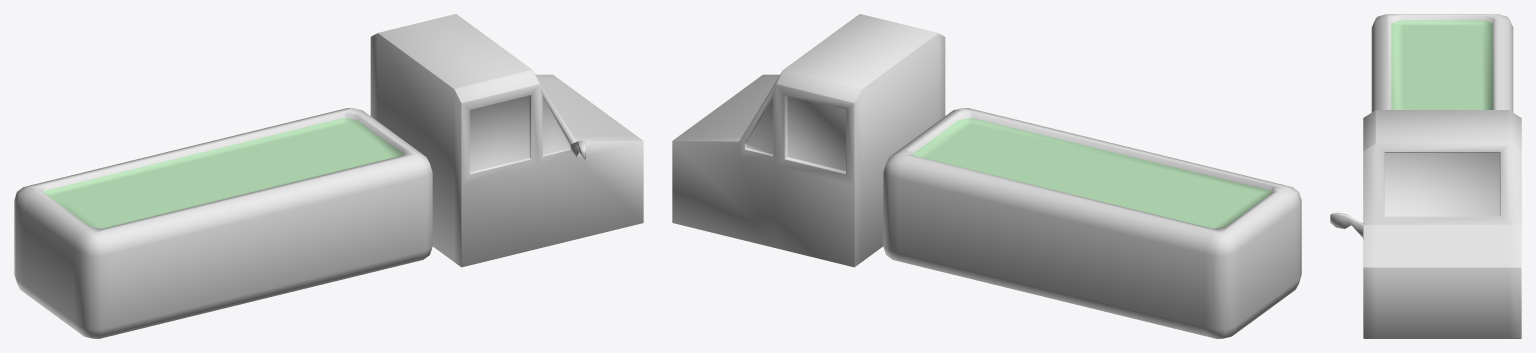
File: boxx.fbx
3 views of the same model, side by side, from view 1: azimuth 30°, elevation 25°; view 2: azimuth 150°, elevation 25°; view 3: azimuth 270°, elevation 25° (orthographic). The views are drawn at different scales.
Parts seen in each view (by area): view 1: Cube, Cube.001; view 2: Cube, Cube.001; view 3: Cube.001, Cube.
Part boxes in pixels (<box>): Cube: <box>14,108,432,338</box>; Cube.001: <box>370,14,643,267</box>; Cube: <box>883,108,1301,338</box>; Cube.001: <box>672,14,945,267</box>; Cube.001: <box>1330,110,1521,338</box>; Cube: <box>1371,14,1513,112</box>.
Bounding box in the file's own units: 700 × 211 × 242.
